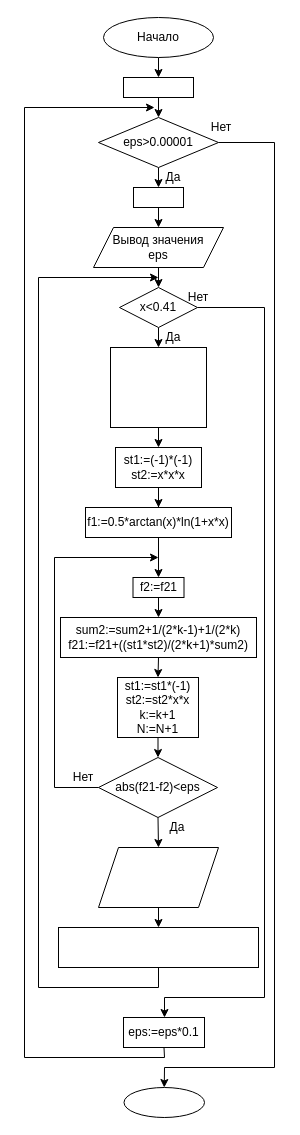
This 300x1135 diagram has some shape labels left out. The shapes that lost their labels are listed below. From the top down, each one's box as (x1, y1, x2, y2) in pixels, then its label:
(122, 76, 194, 98): eps:=0.001
(132, 186, 184, 208): x:= -0.6
(110, 346, 206, 428): f2:=0 f21:=0 k:=1 sum2:=0 N:=1
(98, 846, 218, 908): Вывод значений x, f1, f21, N
(58, 926, 258, 968): x:=x+0.05 x:=round(x/0.00000001)*0.00000001
(123, 1086, 204, 1118): Конец
